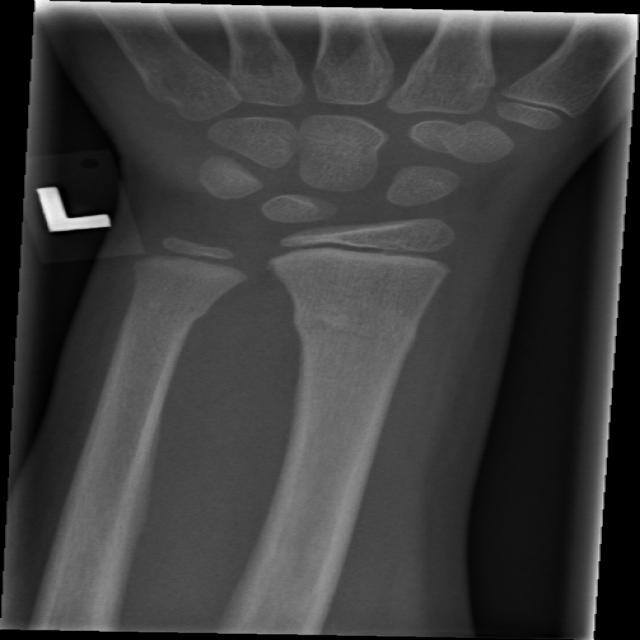radius fracture: (281, 284, 449, 388)
ulna fracture: (125, 268, 233, 354)
